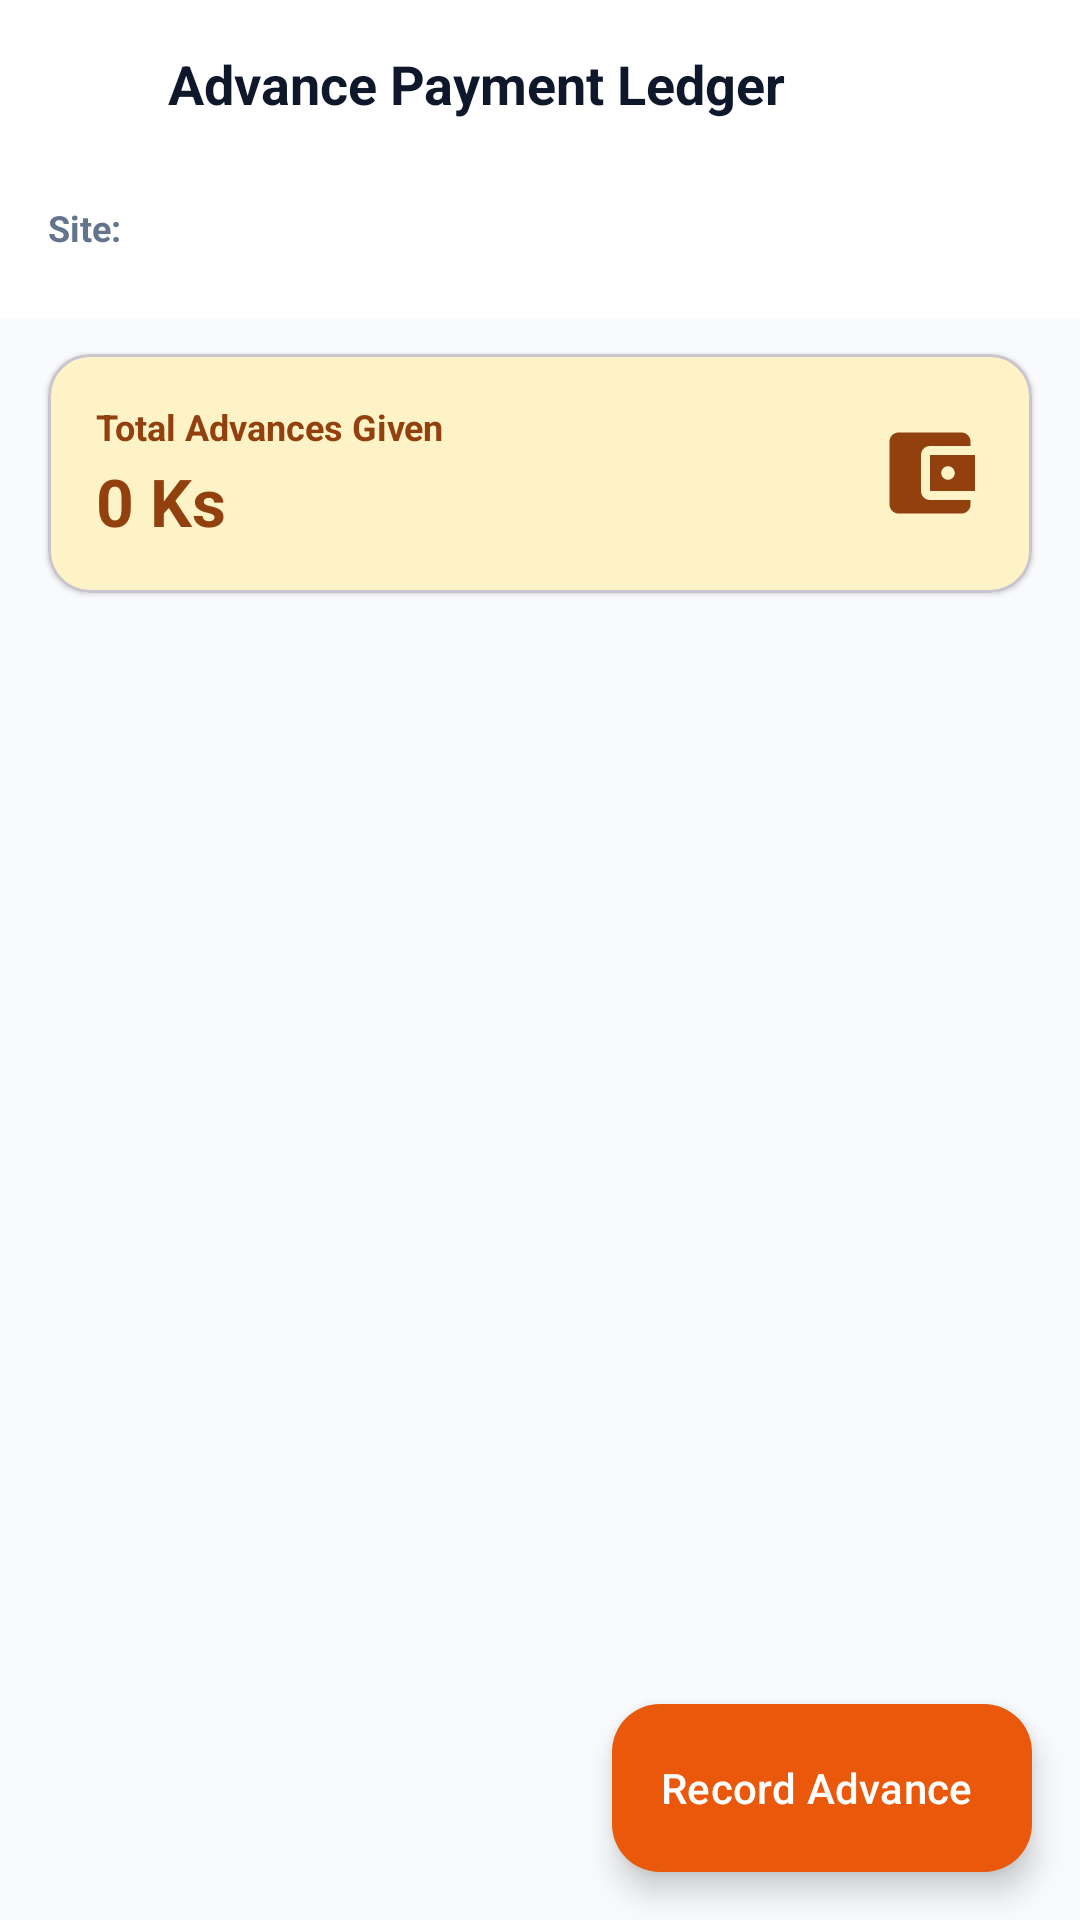

Icon bounding boxes for this 1080x1920 phone screenshot, format rect(x1, y1, x2, y2):
Money Icon: rect(889, 432, 975, 514)
